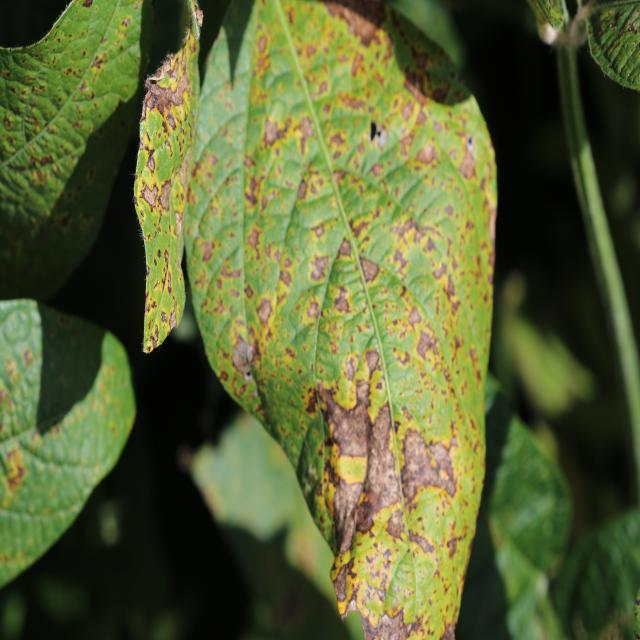Bacterial_Blight: (364, 288, 461, 437), (386, 404, 473, 530), (358, 406, 404, 539), (320, 108, 390, 182), (328, 392, 369, 463), (334, 3, 382, 44), (359, 603, 413, 639), (145, 77, 182, 119), (365, 370, 390, 424), (331, 370, 359, 411), (232, 336, 255, 381), (148, 52, 179, 85), (458, 140, 478, 180), (354, 497, 376, 533), (155, 144, 175, 183), (333, 561, 349, 603), (339, 91, 367, 114), (487, 201, 498, 259), (416, 329, 436, 359), (310, 253, 329, 282), (318, 383, 337, 412), (219, 257, 242, 280), (141, 183, 159, 212), (360, 255, 379, 282), (245, 175, 261, 207), (333, 287, 351, 313), (263, 116, 278, 146), (147, 110, 163, 138), (369, 121, 386, 147), (364, 348, 381, 373), (256, 298, 272, 324), (297, 115, 314, 139), (159, 180, 172, 211), (416, 144, 435, 165), (199, 240, 215, 262), (351, 51, 365, 76), (305, 387, 318, 413), (407, 305, 423, 326), (343, 358, 357, 382), (344, 595, 359, 616), (401, 100, 415, 122), (432, 260, 447, 280), (339, 238, 353, 259), (141, 161, 154, 183), (278, 269, 292, 288), (445, 274, 456, 298), (179, 159, 188, 188), (256, 34, 268, 55), (307, 299, 320, 318), (169, 303, 178, 329), (297, 179, 308, 200), (174, 212, 183, 235), (195, 7, 204, 28), (150, 328, 159, 348), (308, 463, 318, 480), (144, 77, 155, 92), (146, 154, 155, 171), (219, 370, 229, 382), (139, 135, 146, 150), (467, 134, 474, 149), (121, 17, 130, 28), (161, 311, 168, 324), (165, 138, 171, 150), (168, 276, 172, 294), (310, 361, 315, 373), (157, 248, 161, 258), (638, 597, 640, 606)
Soybean: (186, 0, 499, 640)
